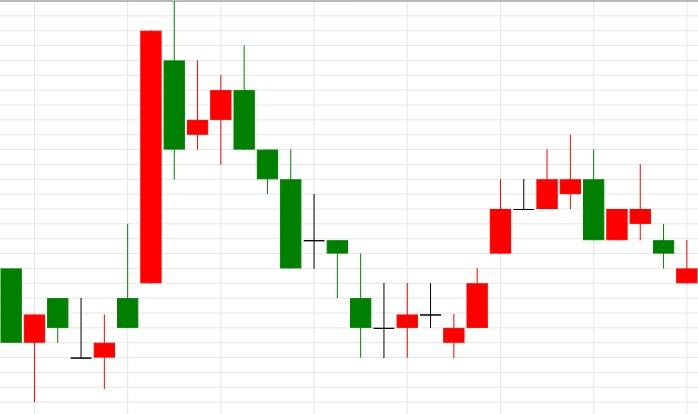inverse_hammer_rise: (559, 134, 698, 284)
morning_star_rise: (233, 45, 419, 357)
three_black_crows_fall: (163, 0, 303, 270)
